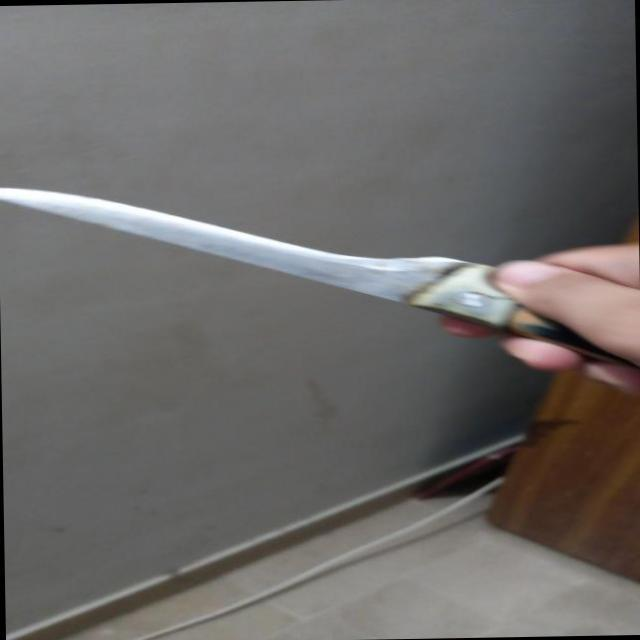Knife: (0, 166, 631, 403)
